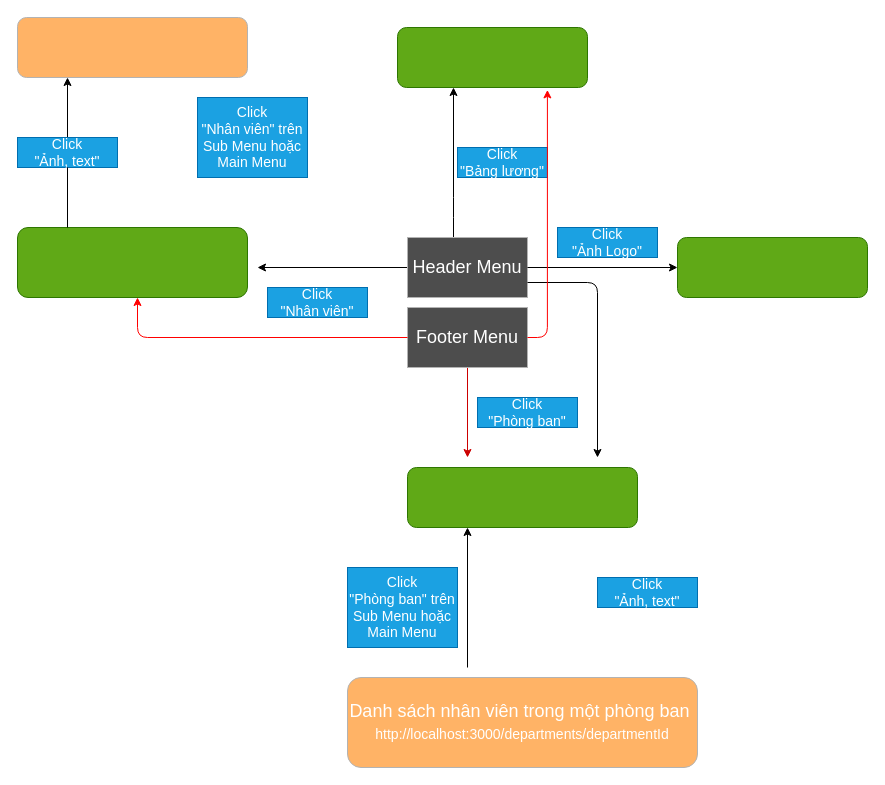
This 885x785 diagram has some shape labels left out. The centre of each missing label's shape, as x and y in pixels:
BẢNG LƯƠNG http://localhost:3000/salary: [492,57]
DANH SÁCH NHÂN VIÊN http://localhost:3000/staffs: [132,262]
Home page http://localhost:3000/home: [772,267]
PHÒNG BAN http://localhost:3000/departments: [522,497]
Thông tin nhân viên http://localhost:3000/staffs/staffId: [132,47]
